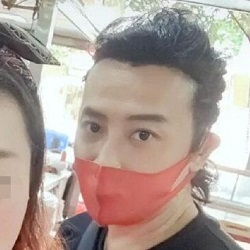mask: (69, 123, 197, 226)
